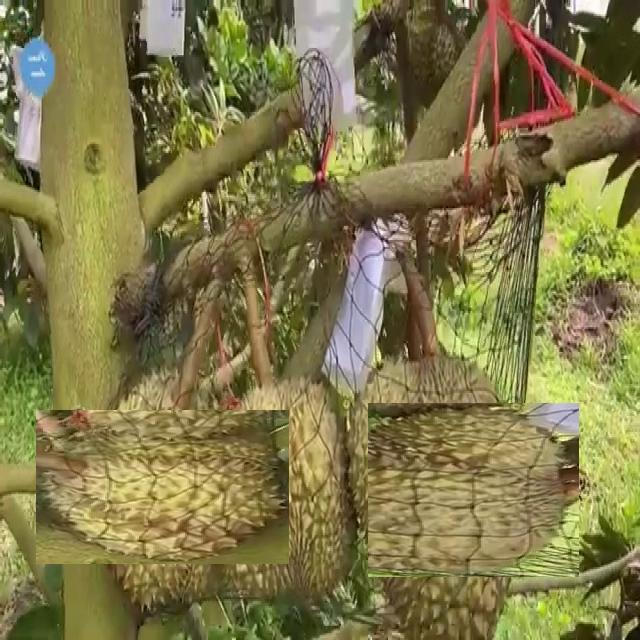durian: (312, 371, 549, 608), (61, 386, 264, 590), (207, 368, 368, 604)
